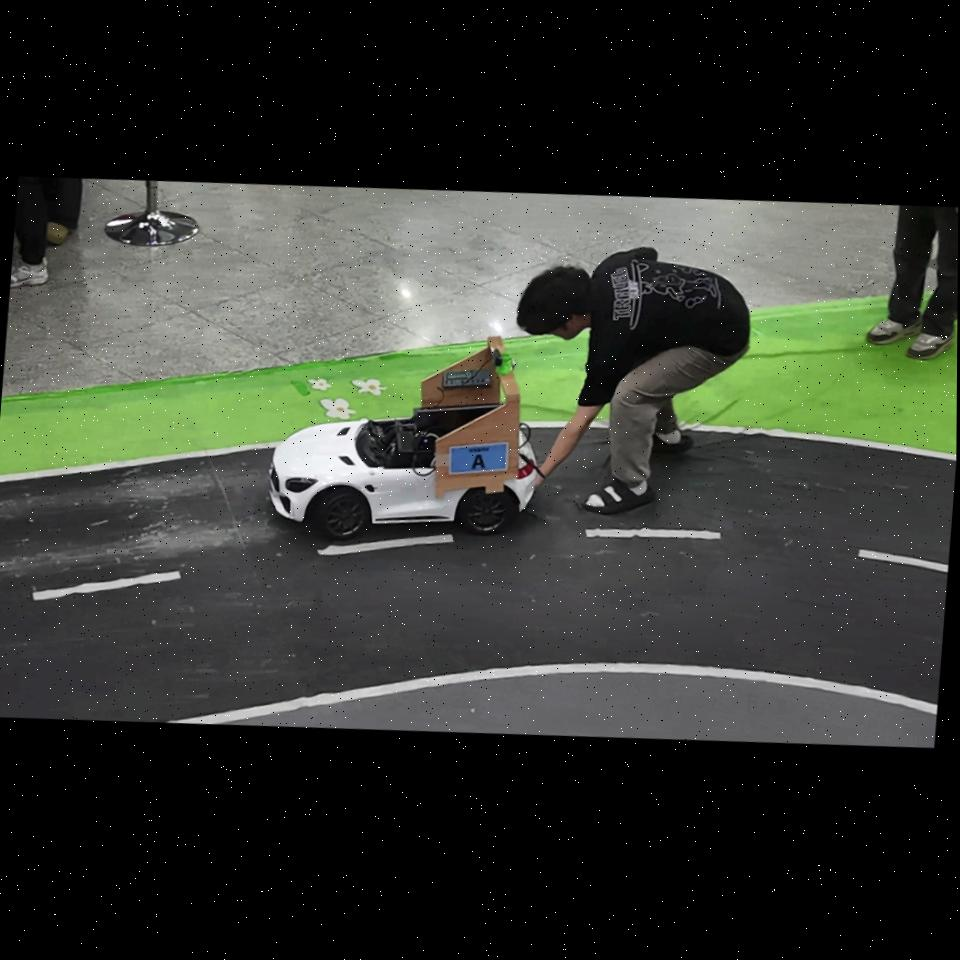broken_line: (33, 571, 182, 600), (318, 534, 454, 555), (858, 549, 948, 572), (585, 527, 721, 539)
